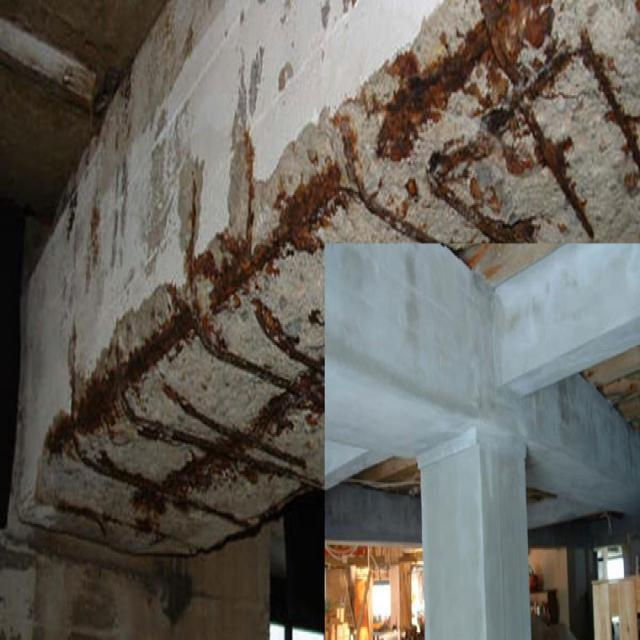stain_mould: (368, 2, 636, 243), (48, 284, 325, 453), (186, 115, 429, 304), (84, 383, 314, 532)
